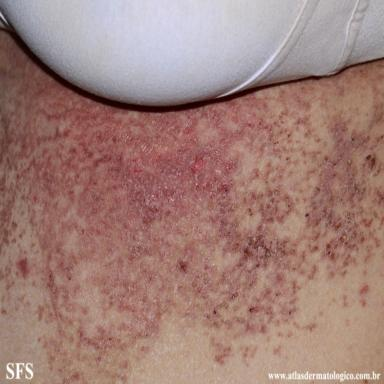Darier_s-Disease: (0, 32, 384, 384)
